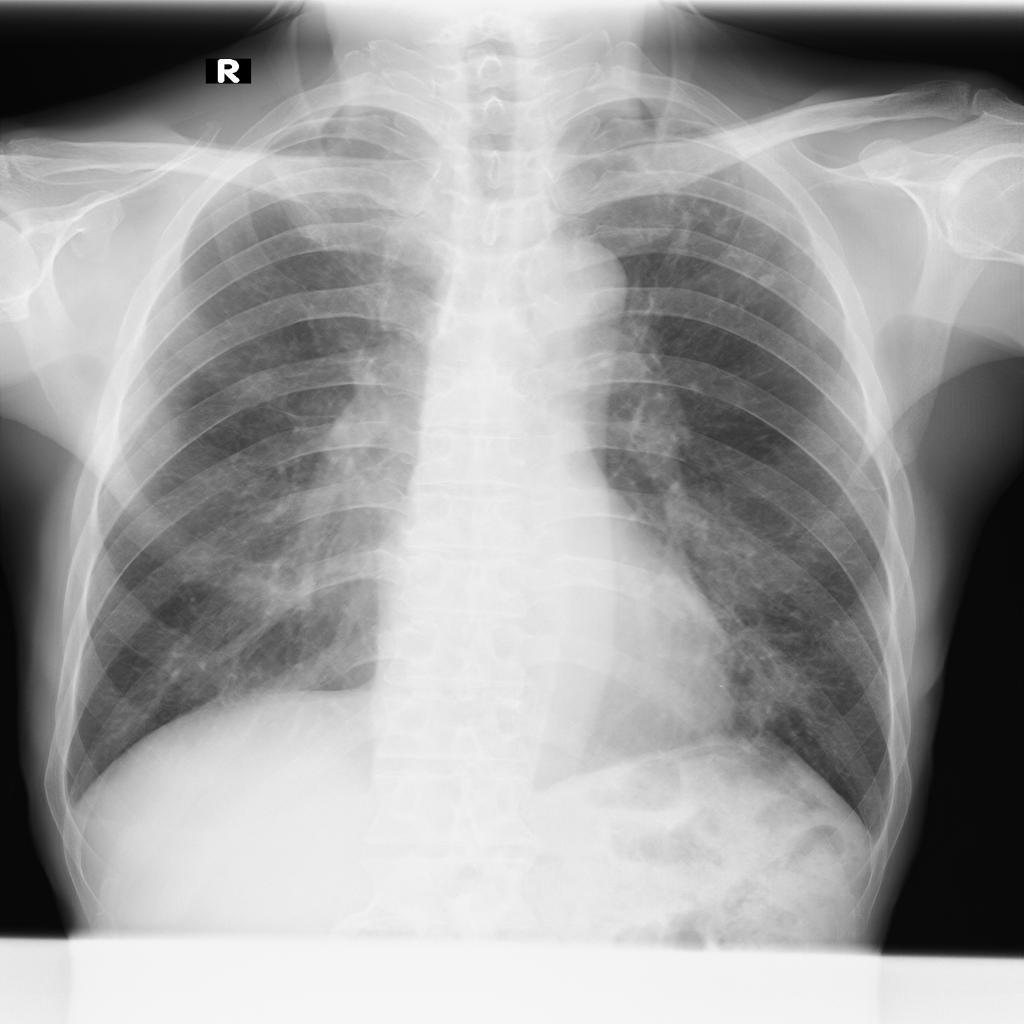Nodule: (758, 274, 775, 288)
